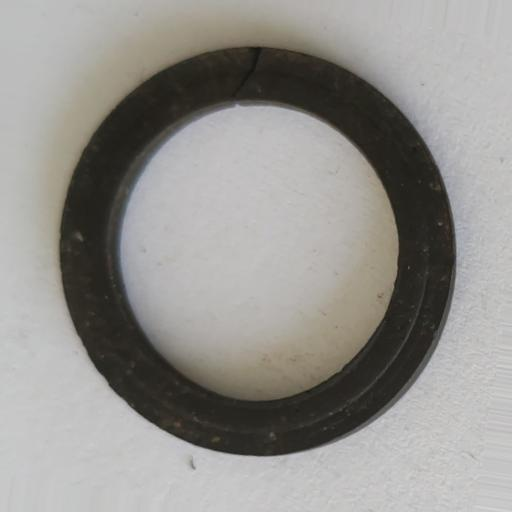defect: (229, 49, 267, 102)
